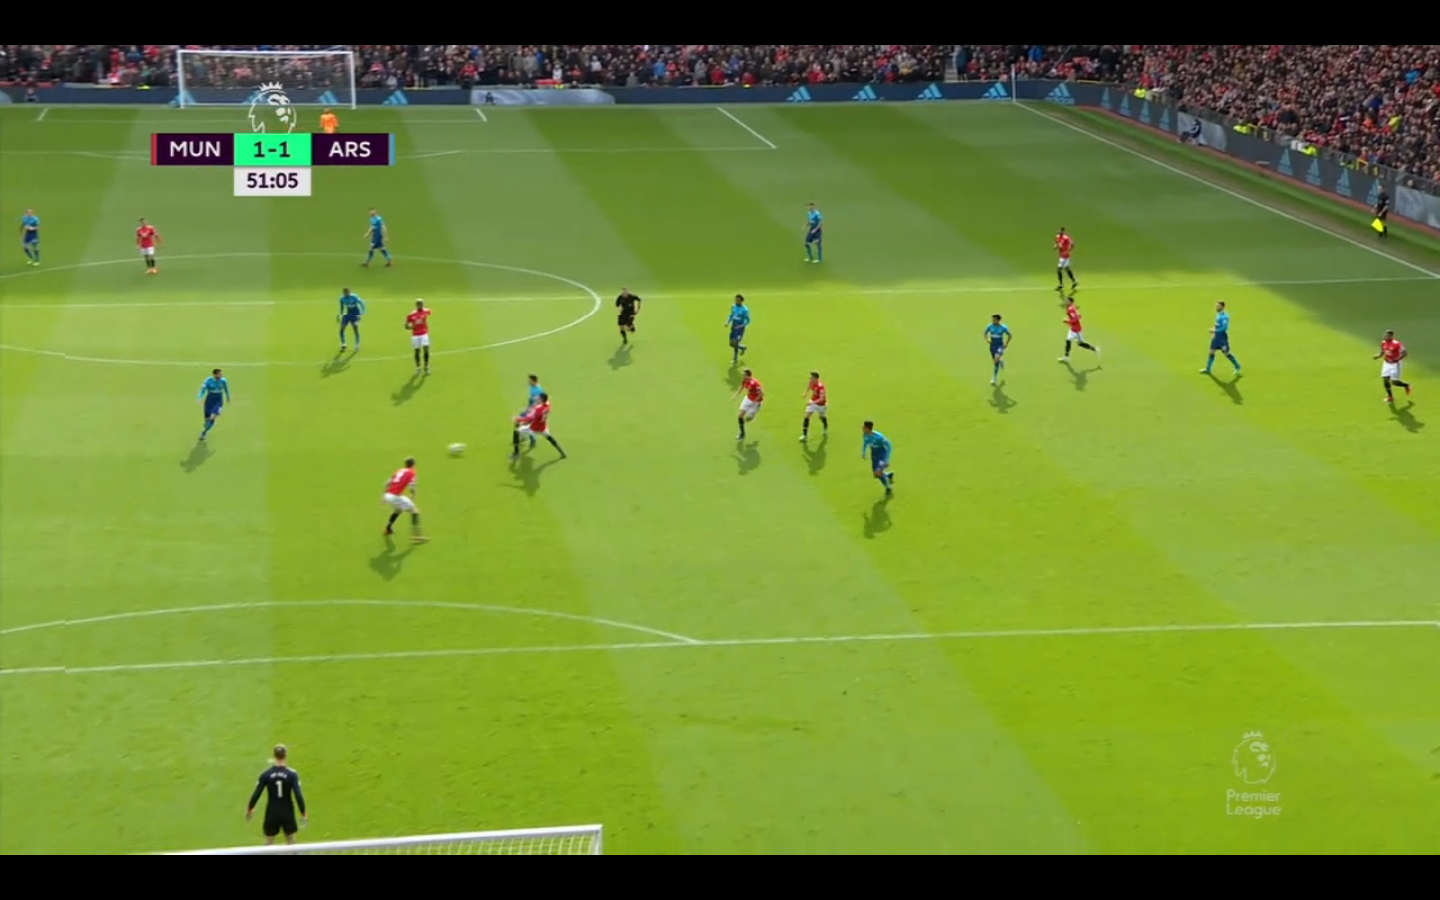referee: (605, 282, 650, 354)
soccer player: (248, 745, 307, 846), (375, 454, 435, 552), (1198, 297, 1247, 385), (855, 417, 905, 502), (513, 380, 562, 462), (190, 363, 235, 446), (1052, 296, 1101, 372), (1372, 328, 1413, 409), (401, 297, 441, 382), (358, 199, 401, 276), (793, 365, 832, 448), (718, 294, 759, 371), (732, 368, 767, 446), (1050, 220, 1082, 296), (985, 314, 1012, 392), (335, 289, 368, 352), (135, 216, 164, 277), (18, 202, 45, 268), (801, 197, 825, 269)
soccerball: (445, 437, 468, 465)
